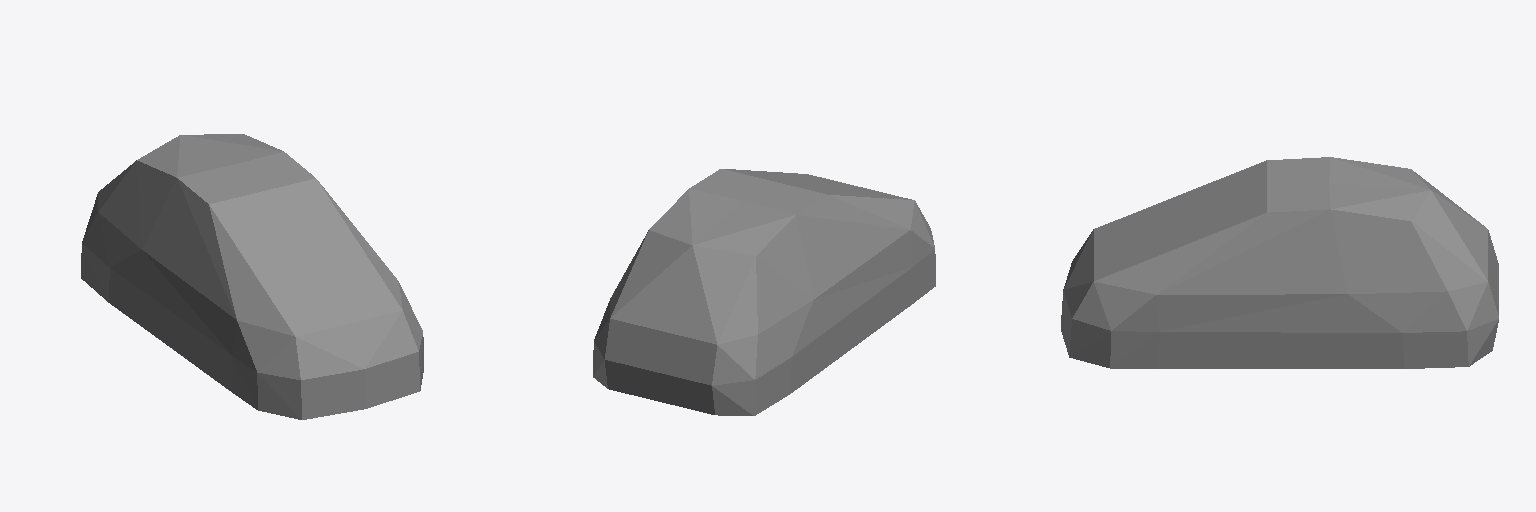
File: collider.obj
3 renders of one model, left to right at view 1: azimuth 30°, elevation 25°; view 2: azimuth 150°, elevation 25°; view 3: azimuth 270°, elevation 25°, orthographic.
Parts seen in each view (by area): view 1: polymsh26; view 2: polymsh26; view 3: polymsh26.
Boxes of the visible parts, <box> form: polymsh26: <box>81,134,423,419</box>; polymsh26: <box>593,169,935,415</box>; polymsh26: <box>1061,157,1498,368</box>.
Size of the model in its own units: 1.64 by 1.34 by 3.67.